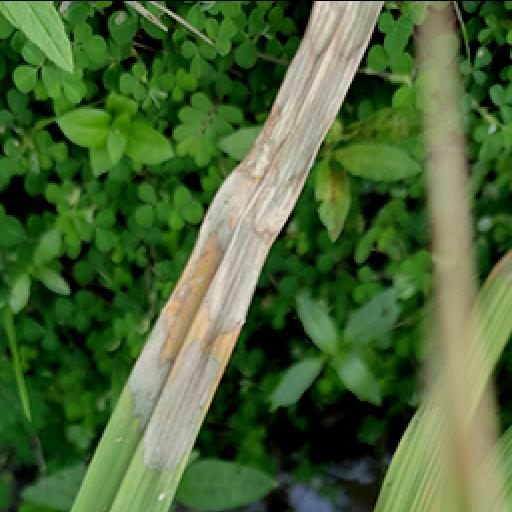Sheath Blight: (114, 0, 390, 492)
